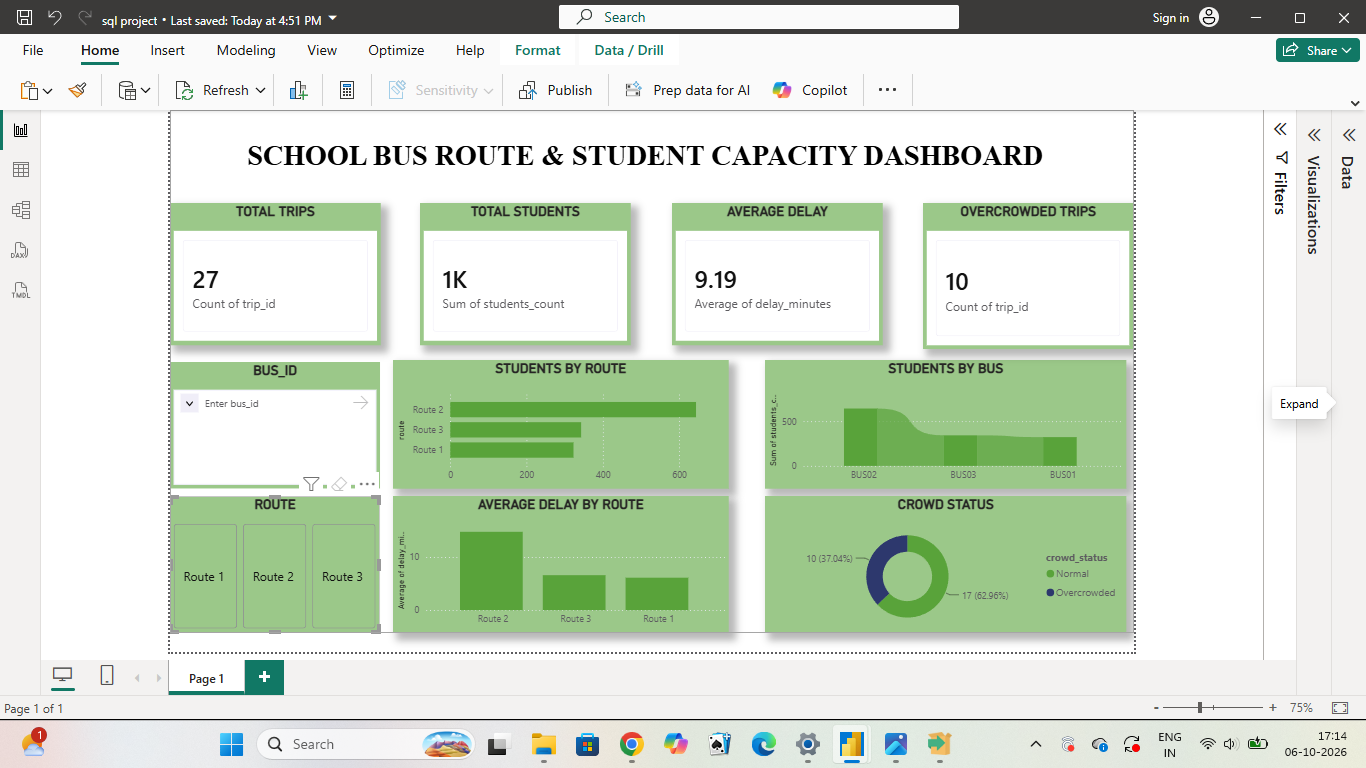

Layout of this report page (visuals, bound fields, positions):
{"tool":"powerbi","page":{"name":"Page 1","canvas":[1280,720],"ordinal":0},"visuals":[{"type":"cardVisual","title":"TOTAL TRIPS","fields":{"Data":["CountNonNull(public bus 1.trip_id)"]},"box":[0,123.9,280,188.8],"z":0,"group":"g1"},{"type":"cardVisual","title":"TOTAL STUDENTS","fields":{"Data":["Sum(public bus 1.students_count)"]},"box":[331.7,123.9,280,188.6],"z":1000,"group":"g1"},{"type":"cardVisual","title":"AVERAGE DELAY","fields":{"Data":["Avg(public bus 1.delay_minutes)"]},"box":[667.5,123.9,280,188.6],"z":2000,"group":"g1"},{"type":"clusteredBarChart","title":"STUDENTS BY ROUTE","fields":{"Category":["public bus 1.route"],"Y":["Sum(public bus 1.students_count)"]},"box":[295.9,331.7,445.9,170.7],"z":3000,"group":"g1"},{"type":"lineStackedColumnComboChart","title":"AVERAGE DELAY BY ROUTE","fields":{"Category":["public bus 1.route"],"Y":["Avg(public bus 1.delay_minutes)"]},"box":[295.9,513.4,445.9,181.7],"z":4000,"group":"g1"},{"type":"ribbonChart","title":"STUDENTS BY BUS","fields":{"Category":["public bus 1.bus_id"],"Y":["Sum(public bus 1.students_count)"]},"box":[790,331.7,480.3,170.7],"z":5000,"group":"g1"},{"type":"donutChart","title":"CROWD STATUS","fields":{"Category":["public bus 1.crowd_status"],"Y":["CountNonNull(public bus 1.trip_id)"]},"box":[790,513.4,480.3,181.7],"z":6000,"group":"g1"},{"type":"cardVisual","title":"OVERCROWDED TRIPS","fields":{"Data":["CountNonNull(public bus 1.trip_id)"]},"box":[1000.6,123.9,279.6,194.4],"z":7000,"group":"g1"},{"type":"textbox","box":[90.8,0,1081.8,104.6],"z":8000,"group":"g1"},{"type":"advancedSlicerVisual","title":"ROUTE","fields":{"Values":["public bus 1.route"]},"box":[0,513.4,279.4,181.7],"z":9000,"group":"g1"},{"type":"textSlicer","title":"BUS_ID","fields":{"Values":["public bus 1.bus_id"]},"box":[0,334.5,279.4,167.9],"z":10000,"group":"g1"},{"type":"group","id":"g1","title":"Group 1","box":[0,0,1280,695.1],"z":10001}]}

Visuals, with their boxes on the page's 1280x720 design canvas (x1, y1, x2, y2). These are canvas units, not pixel positions in the 1366x768 screenshot, which may show the page scaled, cropped or inside an application window:
"TOTAL TRIPS" cardVisual: Rect(0, 124, 280, 313)
"TOTAL STUDENTS" cardVisual: Rect(332, 124, 612, 312)
"AVERAGE DELAY" cardVisual: Rect(668, 124, 948, 312)
"STUDENTS BY ROUTE" clusteredBarChart: Rect(296, 332, 742, 502)
"AVERAGE DELAY BY ROUTE" lineStackedColumnComboChart: Rect(296, 513, 742, 695)
"STUDENTS BY BUS" ribbonChart: Rect(790, 332, 1270, 502)
"CROWD STATUS" donutChart: Rect(790, 513, 1270, 695)
"OVERCROWDED TRIPS" cardVisual: Rect(1001, 124, 1280, 318)
textbox: Rect(91, 0, 1173, 105)
"ROUTE" advancedSlicerVisual: Rect(0, 513, 279, 695)
"BUS_ID" textSlicer: Rect(0, 334, 279, 502)
"Group 1" group: Rect(0, 0, 1280, 695)
